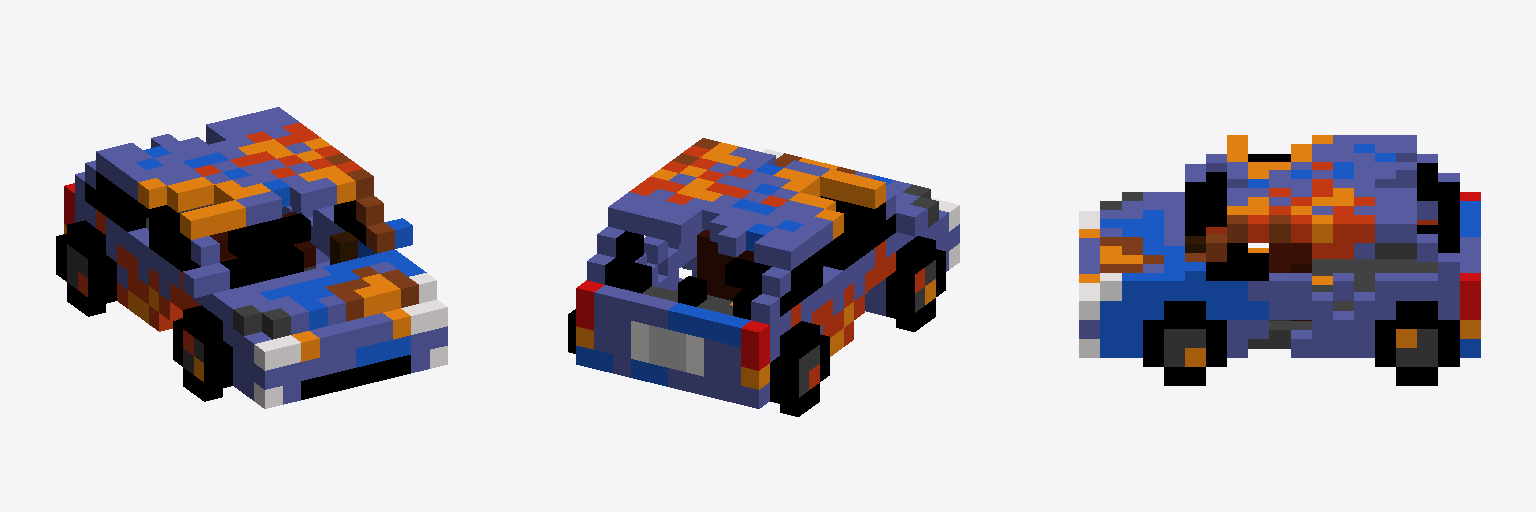
The picture shows the model from 3 angles: view 1: azimuth 30°, elevation 25°; view 2: azimuth 150°, elevation 25°; view 3: azimuth 270°, elevation 25°; orthographic projection.
Visible parts, largest first — view 1: object 1; view 2: object 1; view 3: object 1.
Part boxes in pixels (x1,y1,x2,y2): object 1: (56,107,447,408); object 1: (568,138,959,416); object 1: (1079,135,1480,385).
Bounding box in the file's own units: 1.2 × 0.8 × 1.9.
1 materials, 1 textured.